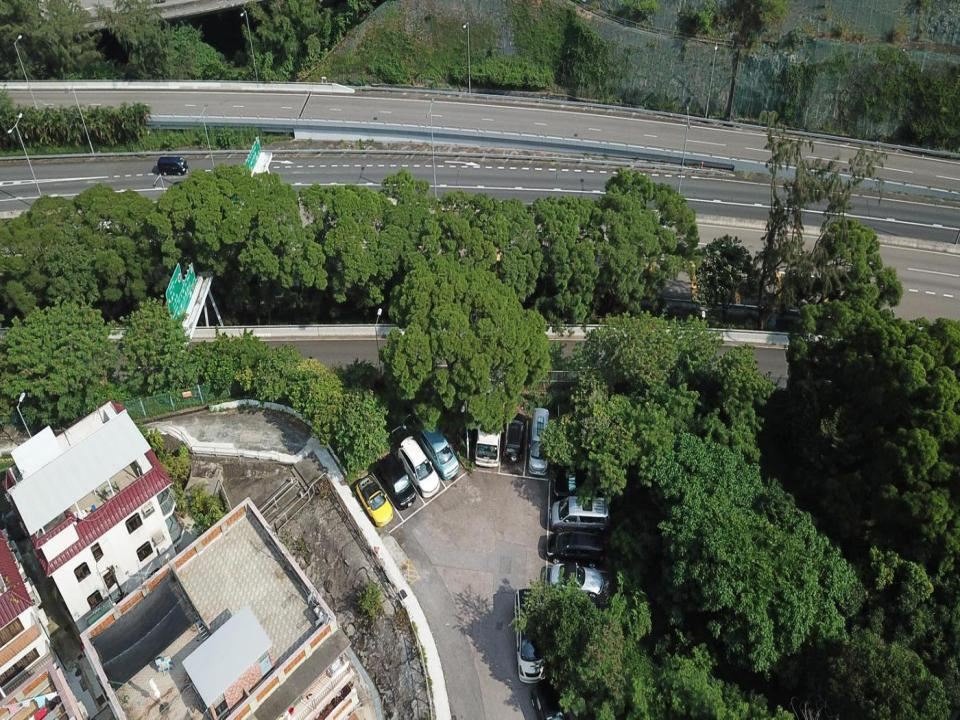car: (514, 588, 546, 684), (397, 435, 440, 498), (546, 530, 605, 569), (378, 452, 417, 510), (419, 425, 459, 480), (552, 471, 610, 507), (549, 561, 604, 598), (356, 474, 393, 528), (530, 678, 567, 719), (503, 411, 526, 464)
truck: (474, 388, 505, 468)
van: (549, 494, 610, 534), (528, 408, 549, 476), (157, 156, 189, 176)
